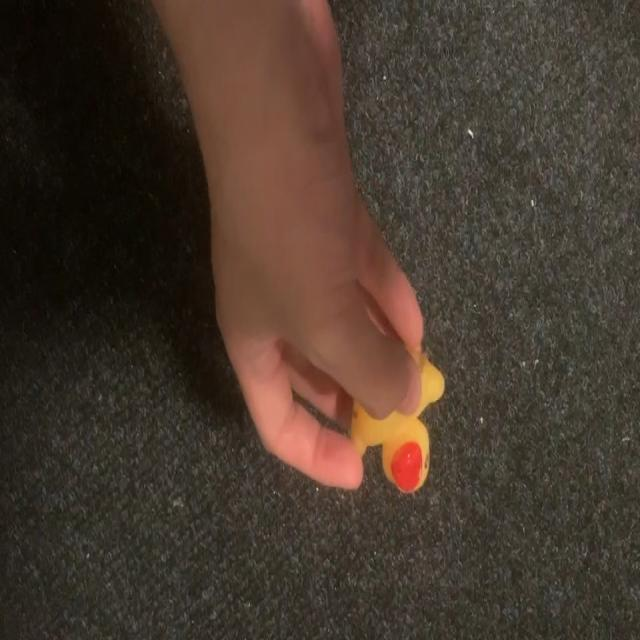rubber-duck: (350, 354, 443, 491)
